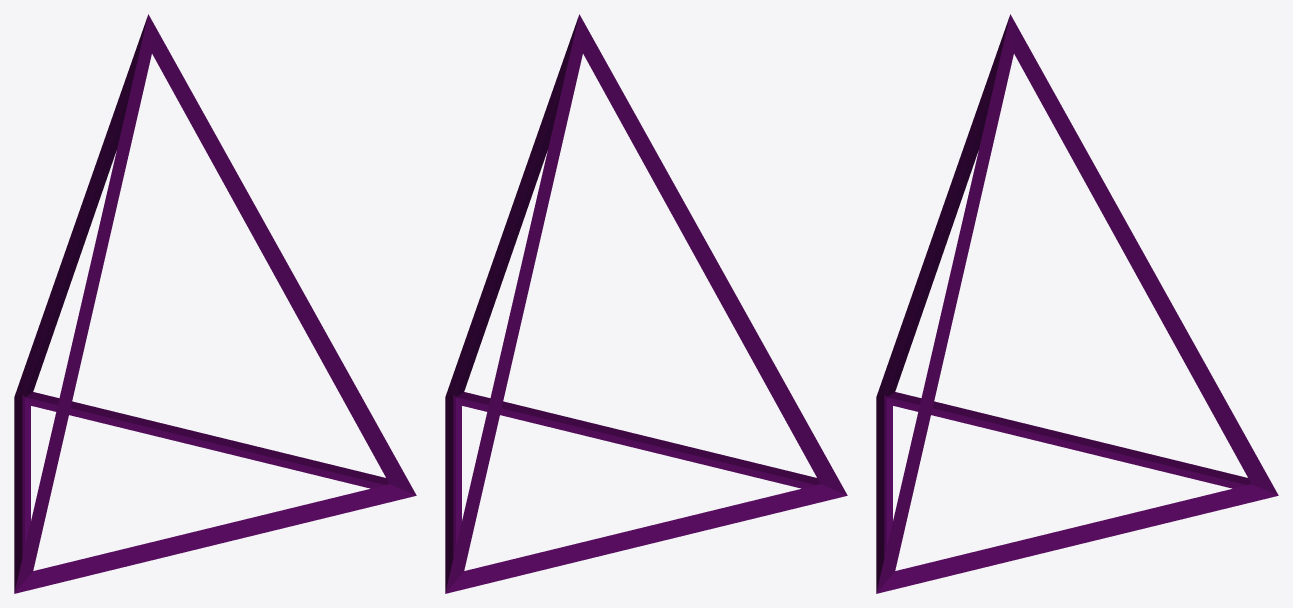
Rendered from Конус.002.gltf.
3 views of the same model, side by side, from view 1: azimuth 30°, elevation 25°; view 2: azimuth 150°, elevation 25°; view 3: azimuth 270°, elevation 25° (orthographic).
Parts seen in each view (by area): view 1: Конус.002; view 2: Конус.002; view 3: Конус.002.
Part boxes in pixels (x1,y1,x2,y2): Конус.002: (14, 14, 416, 593); Конус.002: (445, 14, 847, 593); Конус.002: (876, 14, 1278, 593).
Size of the model in its own units: 2.69 by 3.08 by 2.33.
